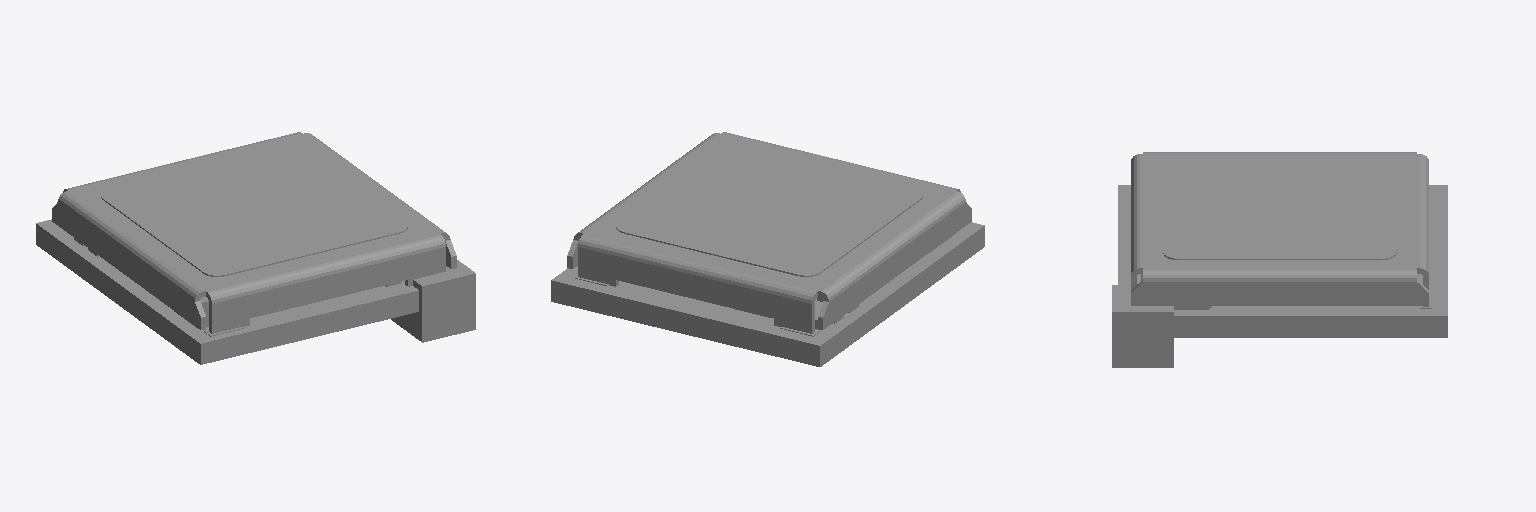
File: nina2.obj
3 views of the same model, side by side, from view 1: azimuth 30°, elevation 25°; view 2: azimuth 150°, elevation 25°; view 3: azimuth 270°, elevation 25° (orthographic).
Visible parts, largest first — view 1: NI_Part49.23, NI_NINA_BxxxLabel.4, NI_PCB.3, NI_PCB, Cube, NI_PCB.5; view 2: NI_Part49.23, NI_NINA_BxxxLabel.4, NI_PCB.4, NI_PCB, NI_PCB.5; view 3: NI_NINA_BxxxLabel.4, NI_Part49.23, NI_PCB, NI_PCB.4, Cube.
Part boxes in pixels (x1,y1,x2,y2): NI_Part49.23: (52, 132, 456, 333); NI_NINA_BxxxLabel.4: (101, 146, 407, 275); NI_PCB.3: (201, 291, 418, 364); NI_PCB: (36, 219, 418, 343); Cube: (391, 260, 475, 342); NI_PCB.5: (36, 224, 200, 364); NI_Part49.23: (567, 132, 971, 333); NI_NINA_BxxxLabel.4: (616, 146, 922, 275); NI_PCB.4: (551, 280, 819, 366); NI_PCB: (552, 222, 984, 345); NI_PCB.5: (820, 226, 984, 366); NI_NINA_BxxxLabel.4: (1163, 160, 1396, 258); NI_Part49.23: (1131, 152, 1428, 306); NI_PCB: (1118, 185, 1447, 315); NI_PCB.4: (1174, 316, 1447, 337); Cube: (1112, 285, 1173, 367).
Size of the model in its own units: 10.12 by 3.23 by 10.8.